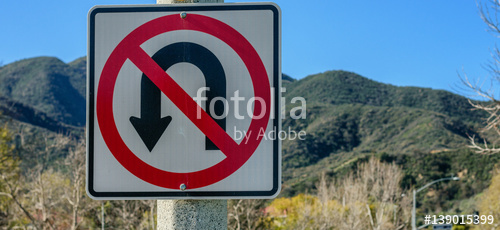No_u_turn: (97, 13, 270, 188)
